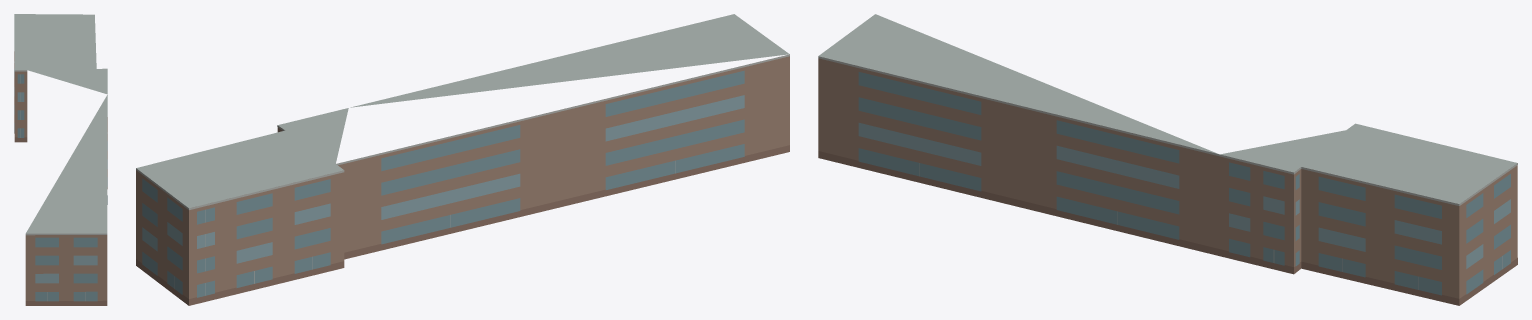
The model's file is survey-upis-32681437.glb.
The picture shows the model from 3 angles, left to right: view 1: azimuth 30°, elevation 25°; view 2: azimuth 150°, elevation 25°; view 3: azimuth 270°, elevation 25°; orthographic projection. The views are drawn at different scales.
Visible parts, largest first — view 1: survey-upis-32681437.tmp; view 2: survey-upis-32681437.tmp; view 3: survey-upis-32681437.tmp.
Part boxes in pixels (x1,y1,x2,y2): survey-upis-32681437.tmp: [14, 14, 107, 305]; survey-upis-32681437.tmp: [136, 14, 789, 305]; survey-upis-32681437.tmp: [818, 14, 1517, 305].
Bounding box in the file's own units: 48.88 × 12.2 × 76.
